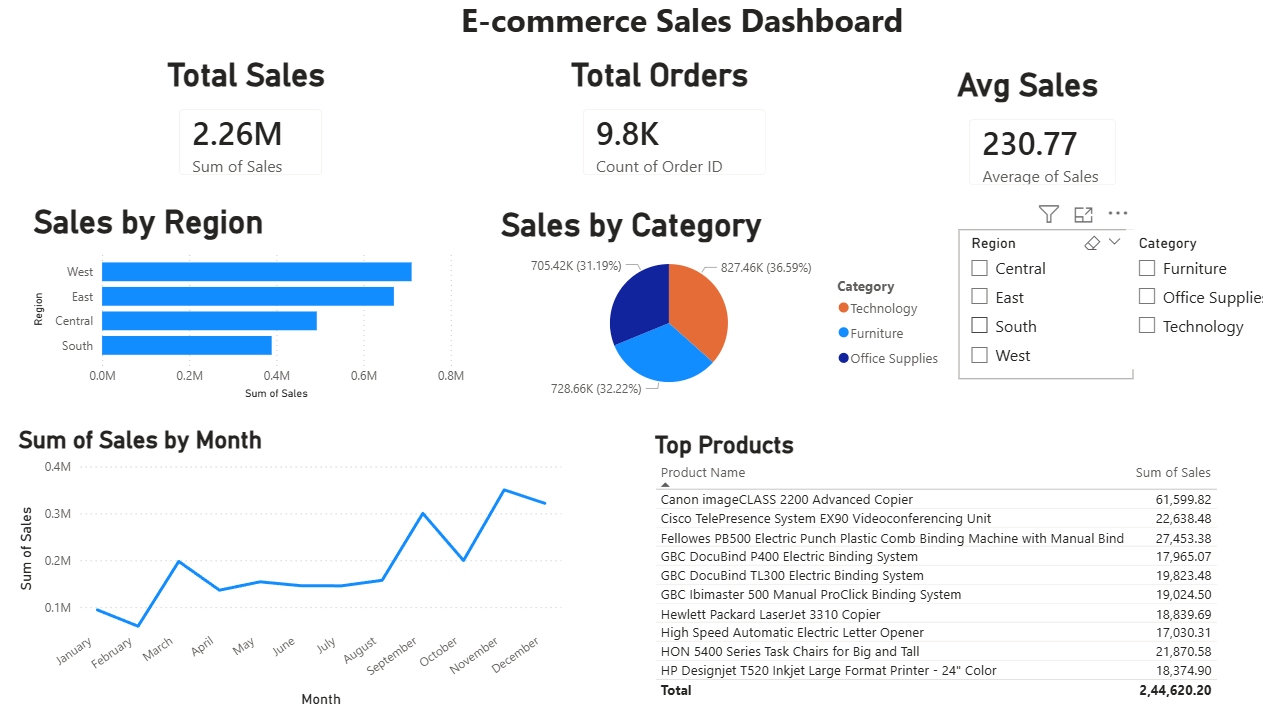

What the dashboard file says about the page in this screenshot:
{"tool":"powerbi","page":{"name":"Page 1","canvas":[1280,720],"ordinal":0},"visuals":[{"type":"cardVisual","title":"Total Sales","fields":{"Data":["Sum(train.Sales)"]},"box":[165.7,62.9,177.1,137.1],"z":0},{"type":"cardVisual","title":"Total Orders","fields":{"Data":["CountNonNull(train.Order ID)"]},"box":[570,62.9,217.1,137.1],"z":1000},{"type":"cardVisual","title":"Avg Sales","fields":{"Data":["Avg(train.Sales)"]},"box":[955.7,72.9,181.4,137.1],"z":2000},{"type":"barChart","title":"Sales by Region","fields":{"Category":["train.Region"],"Y":["Sum(train.Sales)"]},"box":[32.9,210,441.4,201.4],"z":3000},{"type":"pieChart","title":"Sales by Category","fields":{"Category":["train.Category"],"Y":["Sum(train.Sales)"]},"box":[500,212.5,456.2,198.8],"z":4000},{"type":"lineChart","fields":{"Category":["train.Order Date.Variation.Date Hierarchy.Month"],"Y":["Sum(train.Sales)"]},"box":[17.1,432.9,552.9,287.1],"z":5000},{"type":"tableEx","title":"Top Products","fields":{"Values":["train.Product Name","Sum(train.Sales)"]},"box":[653.8,437.5,580,278.8],"z":6000},{"type":"slicer","fields":{"Values":["train.Region"]},"box":[962.5,236.2,175,150],"z":6001},{"type":"textbox","box":[460,0,462.9,62.9],"z":6002},{"type":"slicer","fields":{"Values":["train.Category"]},"box":[1130,236.2,150,140],"z":6003}]}

Visuals, with their boxes in screenshot pixels (x1, y1, x2, y2), scaled from the page's 1280x720 canvas onto the 1263x704 screenshot:
"Total Sales" cardVisual: l=163, t=62, r=338, b=196
"Total Orders" cardVisual: l=562, t=62, r=777, b=196
"Avg Sales" cardVisual: l=943, t=71, r=1122, b=205
"Sales by Region" barChart: l=32, t=205, r=468, b=402
"Sales by Category" pieChart: l=493, t=208, r=944, b=402
lineChart - train.Order Date.Variation.Date Hierarchy.Month x Sum(train.Sales): l=17, t=423, r=562, b=703
"Top Products" tableEx: l=645, t=428, r=1217, b=700
slicer - train.Region: l=950, t=231, r=1122, b=378
textbox: l=454, t=0, r=911, b=62
slicer - train.Category: l=1115, t=231, r=1262, b=368
